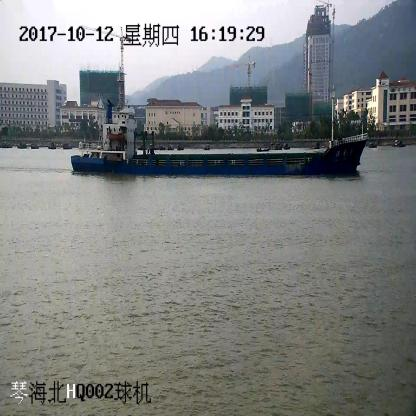Bulk Carrier: (71, 72, 366, 176)
